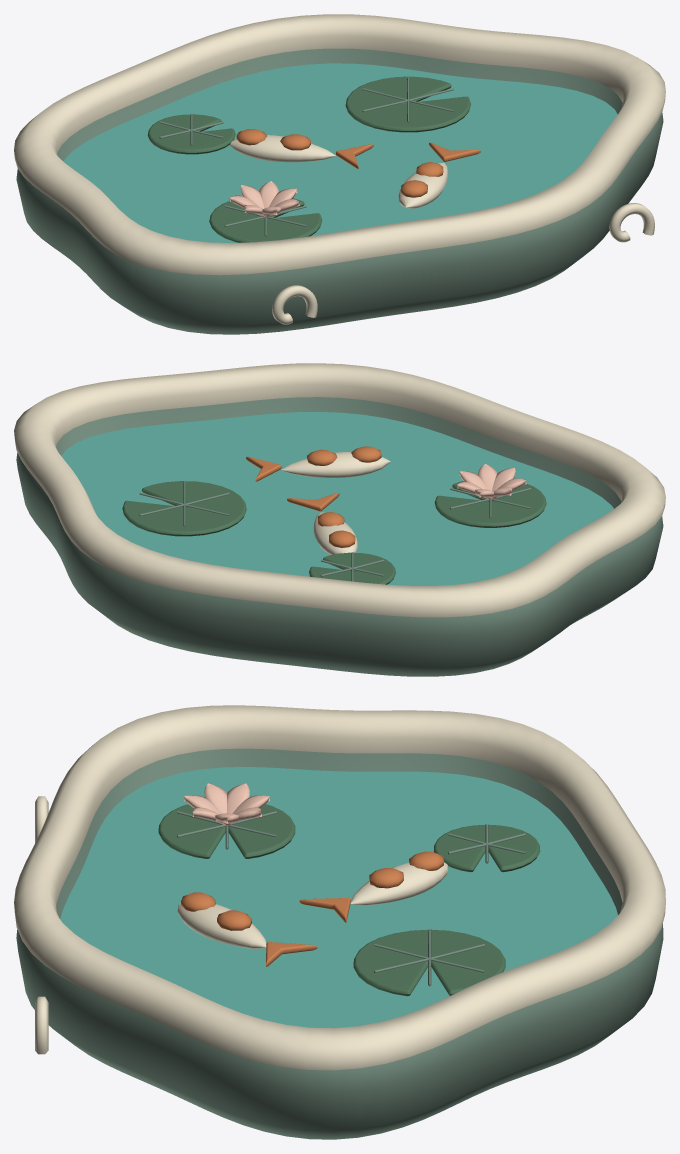
Rendered from cloud_koi_basin_atelier.glb.
The picture shows the model from 3 angles, top to bottom: view 1: azimuth 30°, elevation 25°; view 2: azimuth 150°, elevation 25°; view 3: azimuth 270°, elevation 25°; orthographic projection. The views are drawn at different scales.
Visible parts, largest first — view 1: cloud_koi_basin_atelier__Painted_cloud_koi_basin_atelier_Gla, cloud_koi_basin_atelier__TaggedPainted_cloud_koi_basin_ateli; view 2: cloud_koi_basin_atelier__Painted_cloud_koi_basin_atelier_Gla, cloud_koi_basin_atelier__TaggedPainted_cloud_koi_basin_ateli; view 3: cloud_koi_basin_atelier__Painted_cloud_koi_basin_atelier_Gla, cloud_koi_basin_atelier__TaggedPainted_cloud_koi_basin_ateli.
Boxes of the visible parts, x1,y1,x2,y2 form: cloud_koi_basin_atelier__Painted_cloud_koi_basin_atelier_Gla: (14,14,665,324); cloud_koi_basin_atelier__TaggedPainted_cloud_koi_basin_ateli: (16,48,663,334); cloud_koi_basin_atelier__Painted_cloud_koi_basin_atelier_Gla: (14,363,665,617); cloud_koi_basin_atelier__TaggedPainted_cloud_koi_basin_ateli: (16,397,663,676); cloud_koi_basin_atelier__Painted_cloud_koi_basin_atelier_Gla: (14,705,665,1070); cloud_koi_basin_atelier__TaggedPainted_cloud_koi_basin_ateli: (16,748,663,1139).
Bounding box in the file's own units: 2.16 × 0.342 × 1.71.
